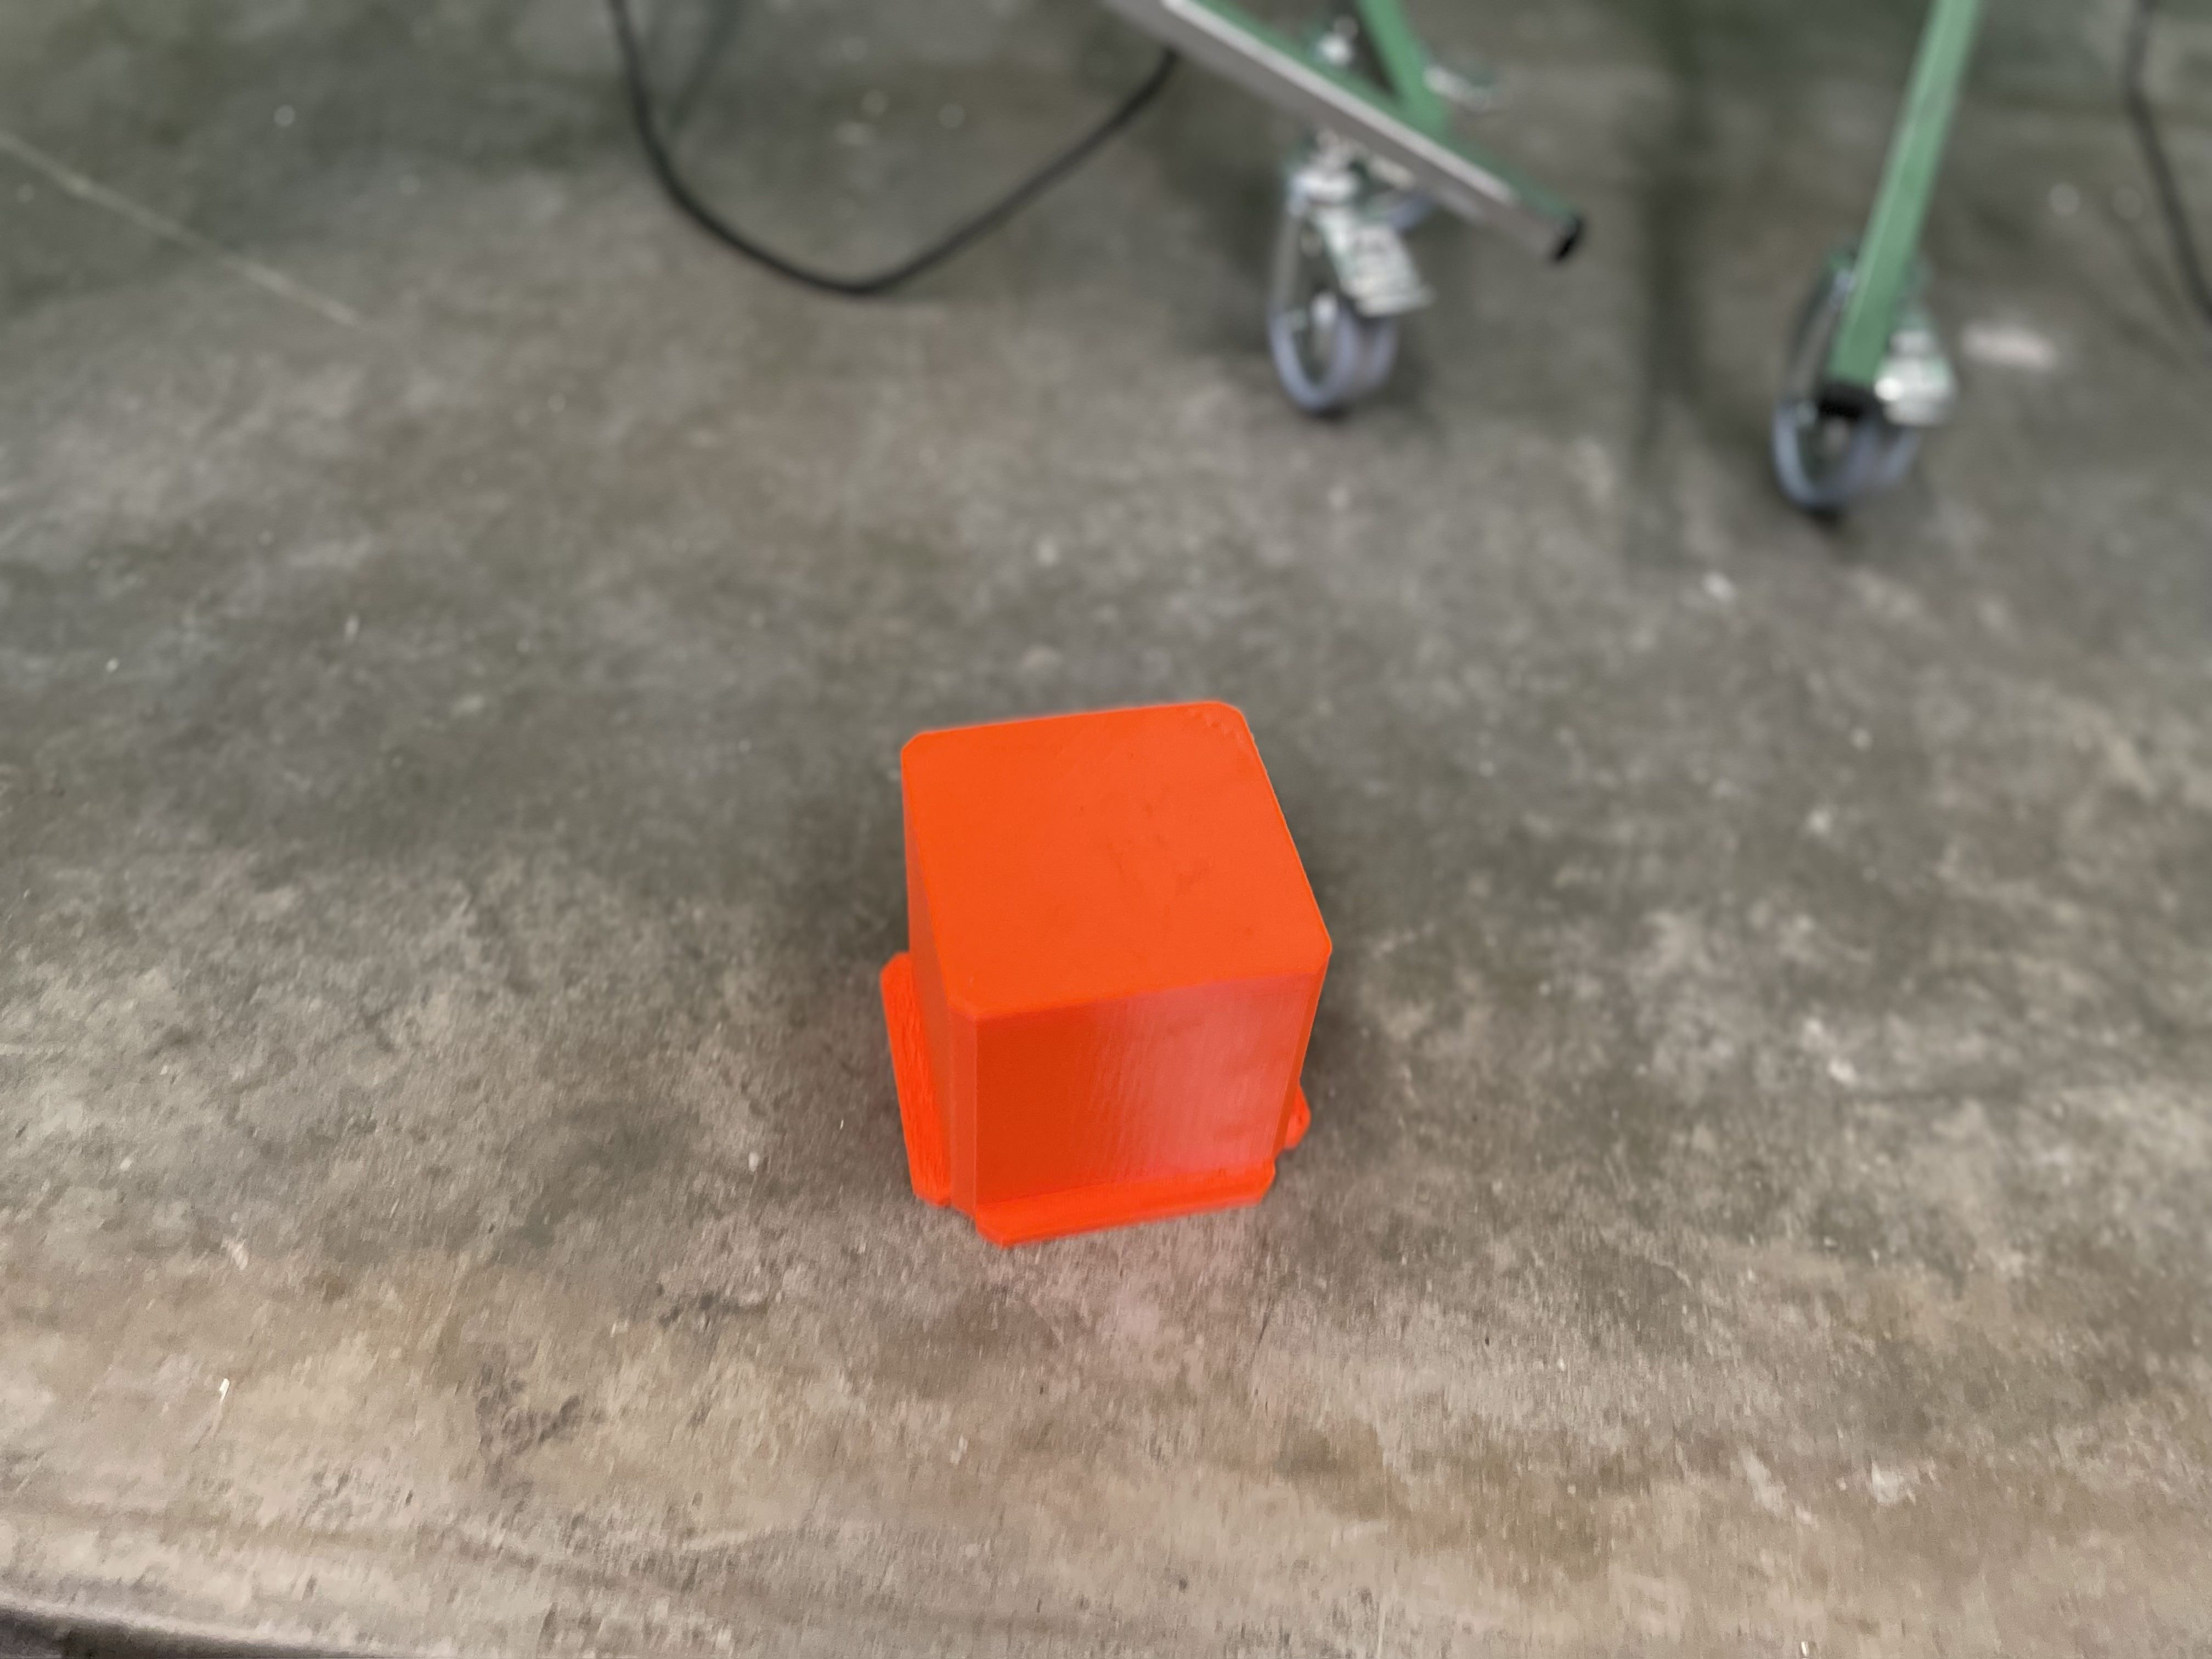payload1: (867, 680, 1355, 1279)
